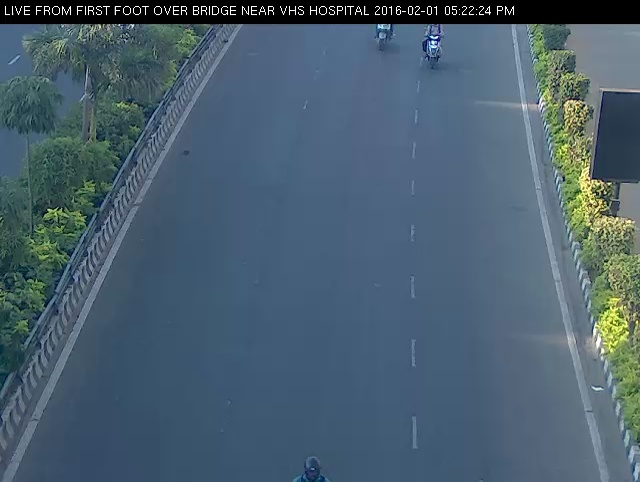Person: (283, 445, 337, 480), (416, 21, 451, 73), (364, 16, 399, 56)
